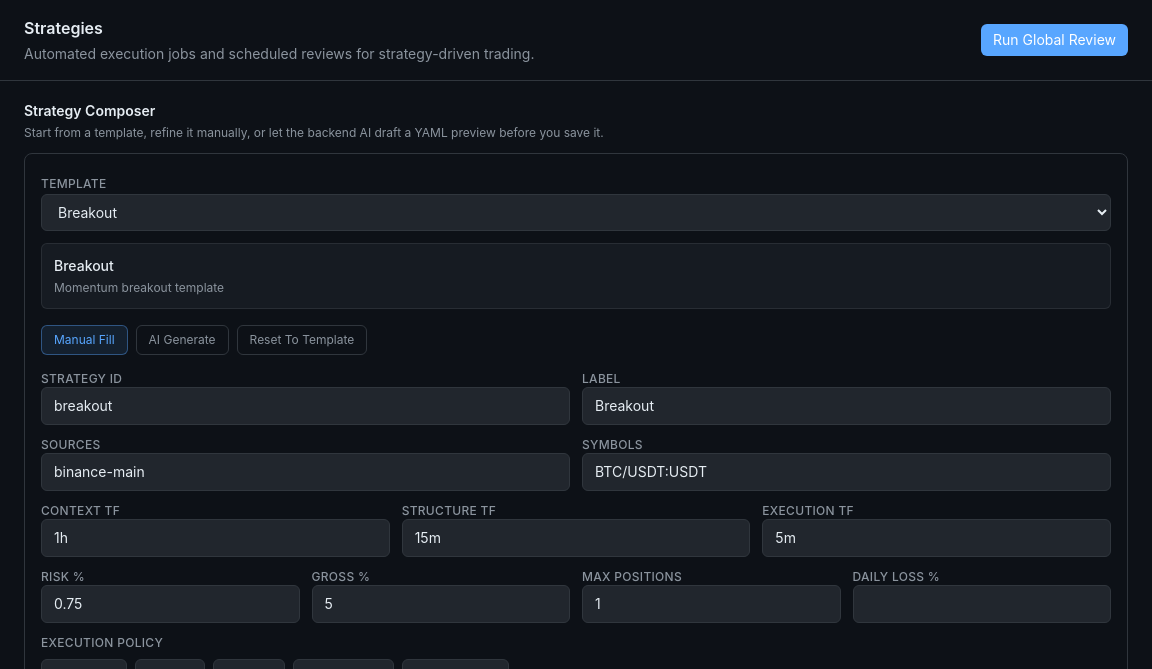
Scenario: StrategiesPage › creates a strategy from a template in manual mode
The image size is (1152, 669).
Replace the text in the field labelled "Strategy ID" with "breakout-btc" at [306, 406], box [41,387,570,425]
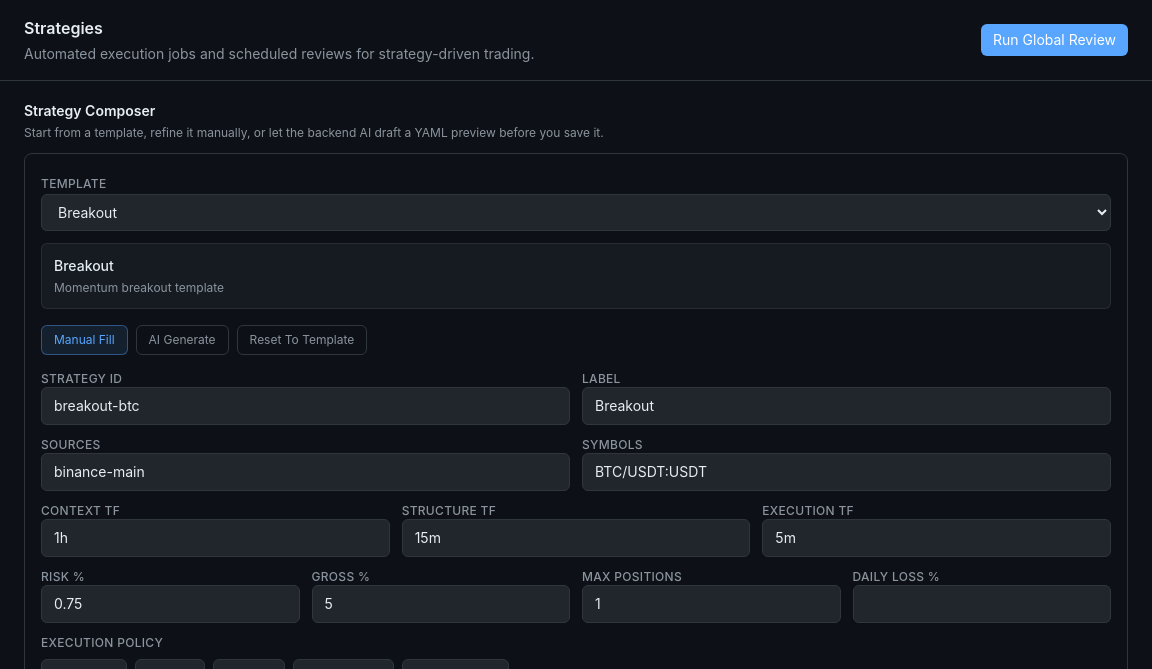
Replace the text in the field named "Strategy label" with "BTC Breakout Manual" at [846, 406], box [582,387,1111,425]
(page scrolled)
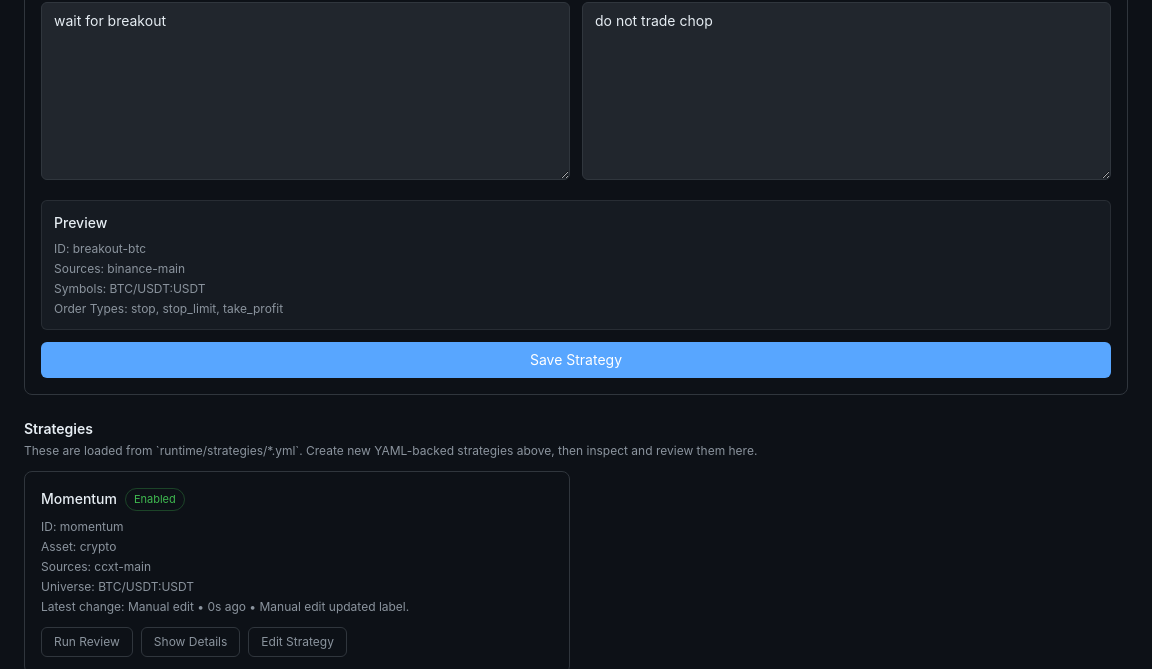
Click the button "Save Strategy" at [576, 360], box [41,342,1111,378]
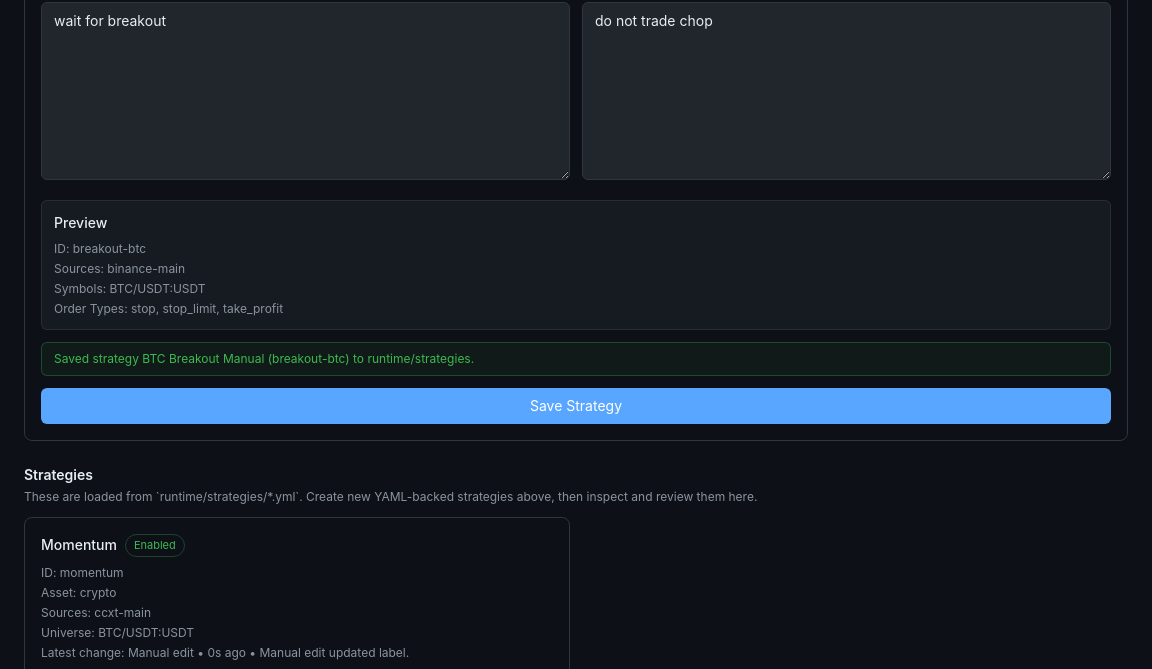
Expected: the text "Saved strategy BTC Breakout Manual" is shown, [54,351,474,366]
